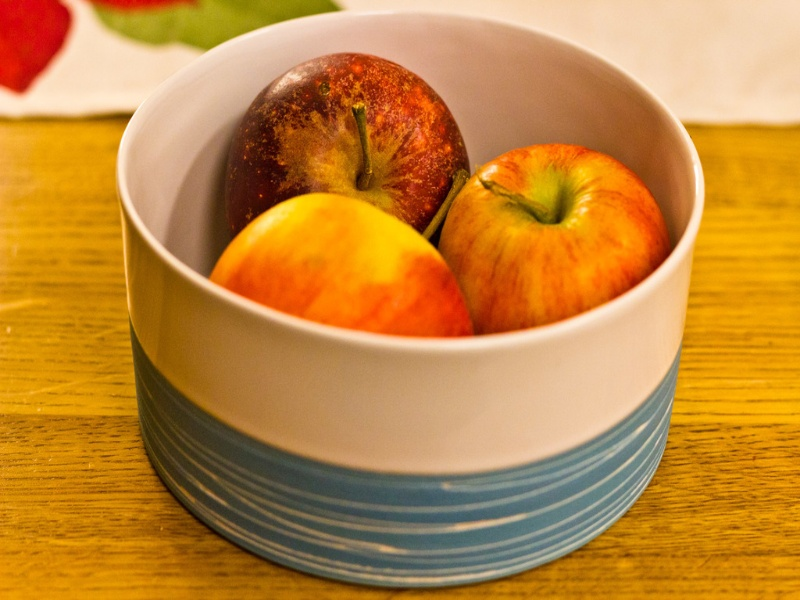apple: (186, 182, 476, 342), (211, 30, 465, 206), (451, 146, 670, 319)
